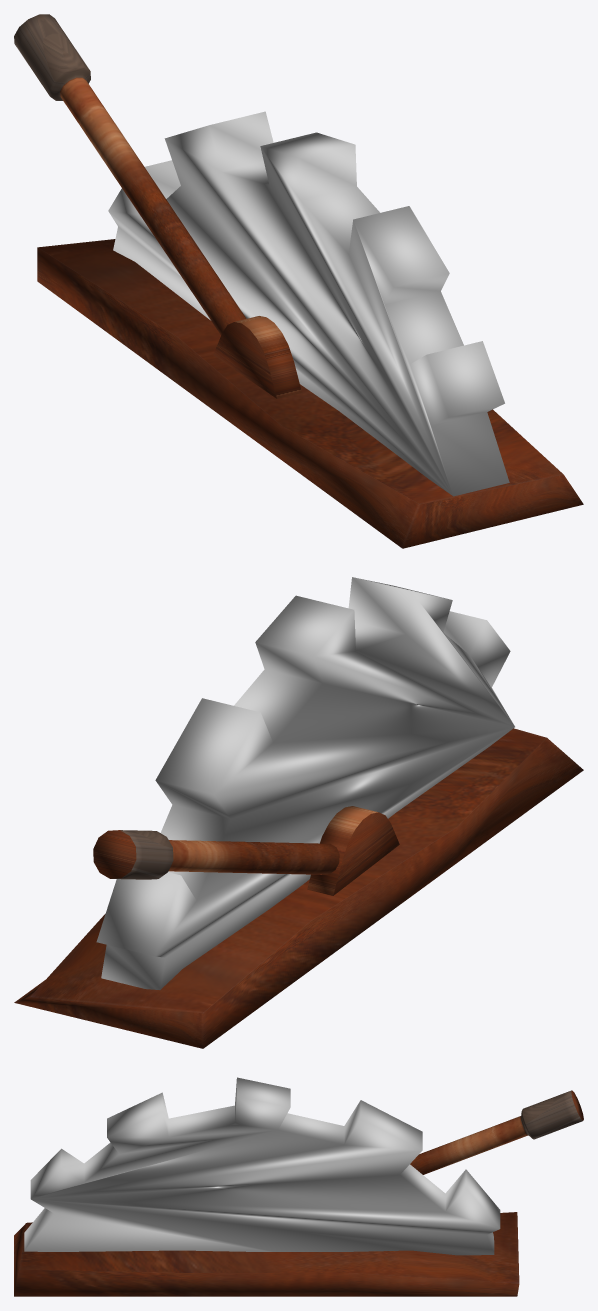
Rendered from Palanca1.obj.
3 renders of one model, top to bottom at view 1: azimuth 30°, elevation 25°; view 2: azimuth 150°, elevation 25°; view 3: azimuth 270°, elevation 25°, orthographic. The views are drawn at different scales.
Parts seen in each view (by area): view 1: Line024, base006, Loft013, NGon009; view 2: Line024, base006, Loft013, NGon009; view 3: Line024, base006, Loft013.
Part boxes in pixels (x1,y1,x2,y2): Line024: [108, 111, 509, 496]; base006: [37, 239, 583, 548]; Loft013: [14, 14, 246, 335]; NGon009: [213, 316, 301, 398]; Line024: [96, 577, 514, 989]; base006: [14, 728, 583, 1048]; Loft013: [93, 830, 339, 879]; NGon009: [307, 806, 399, 895]; Line024: [24, 1077, 500, 1255]; base006: [14, 1212, 519, 1296]; Loft013: [410, 1090, 583, 1174].
Size of the model in its own units: 12.9 by 17.53 by 50.95.
